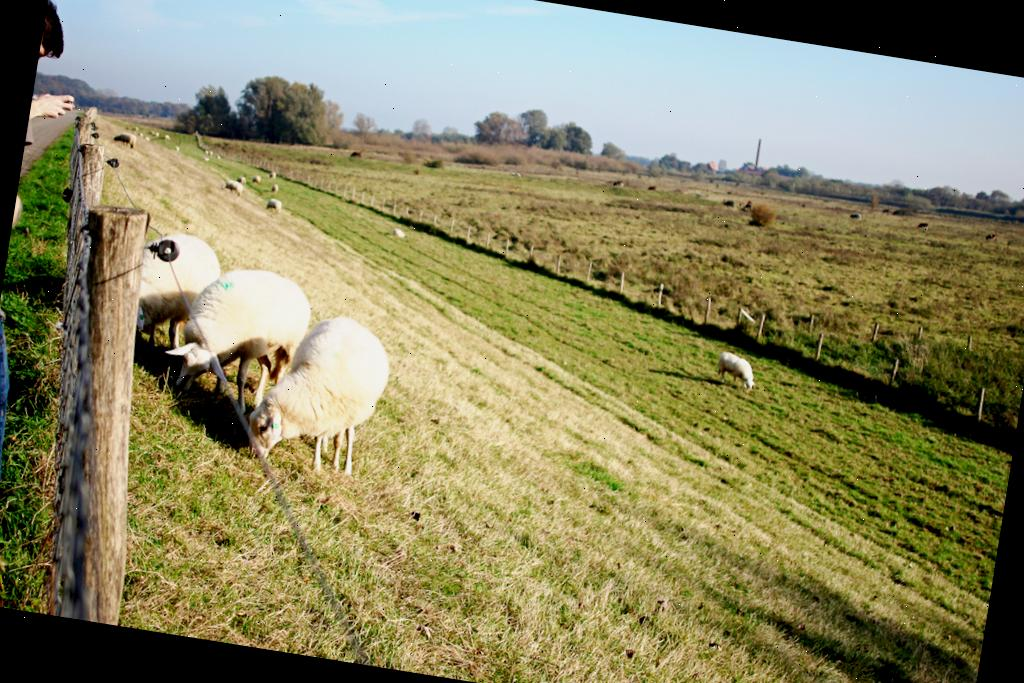Sheep: (234, 294, 400, 502), (164, 251, 318, 407), (117, 223, 224, 348), (707, 349, 769, 395), (216, 176, 248, 198), (110, 128, 139, 150), (262, 192, 288, 215), (388, 222, 410, 243), (250, 172, 264, 186)
